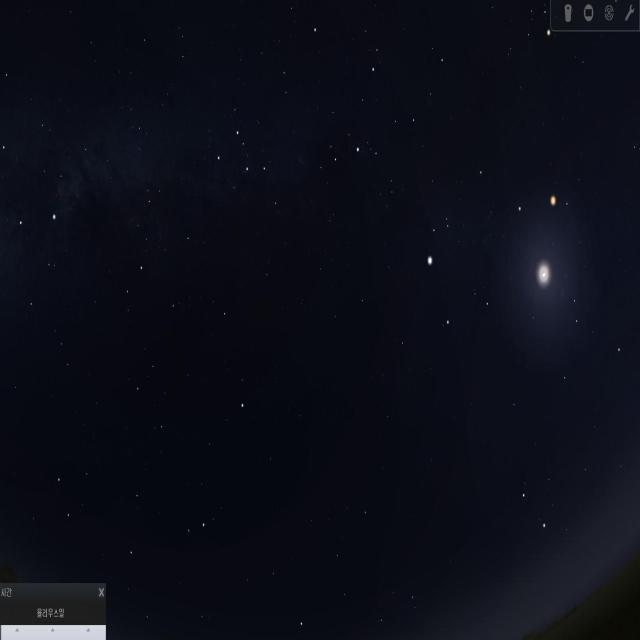cassiopeia: (214, 117, 290, 231)
moon: (523, 237, 560, 328)
